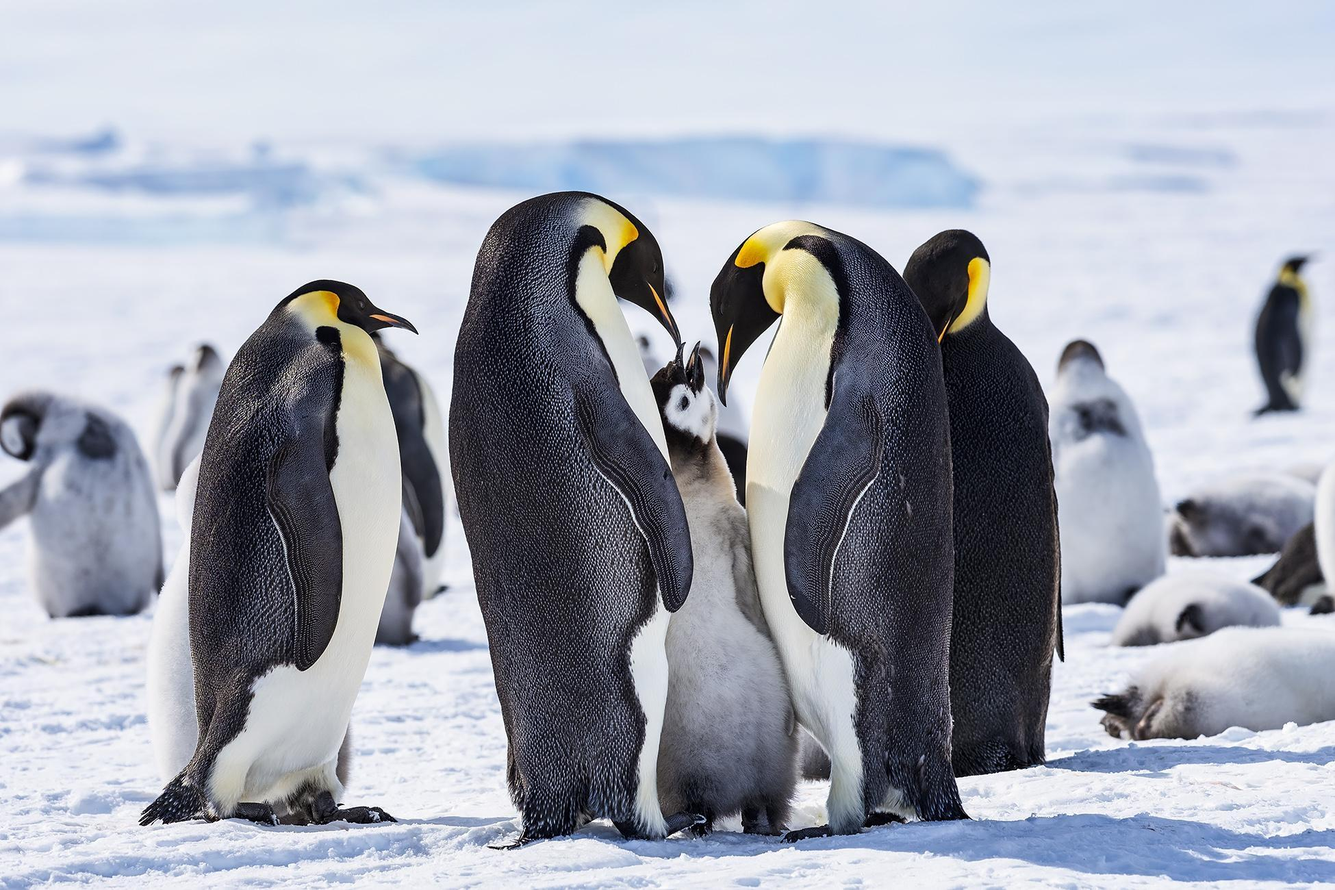Penguin: (446, 190, 704, 852), (709, 220, 965, 843), (140, 279, 419, 825), (903, 229, 1065, 775), (650, 340, 803, 840), (0, 392, 162, 618), (1046, 339, 1167, 605), (1090, 615, 1334, 739), (376, 334, 445, 557), (1109, 574, 1284, 647), (1169, 473, 1315, 555), (1255, 257, 1312, 416), (376, 475, 424, 648)
